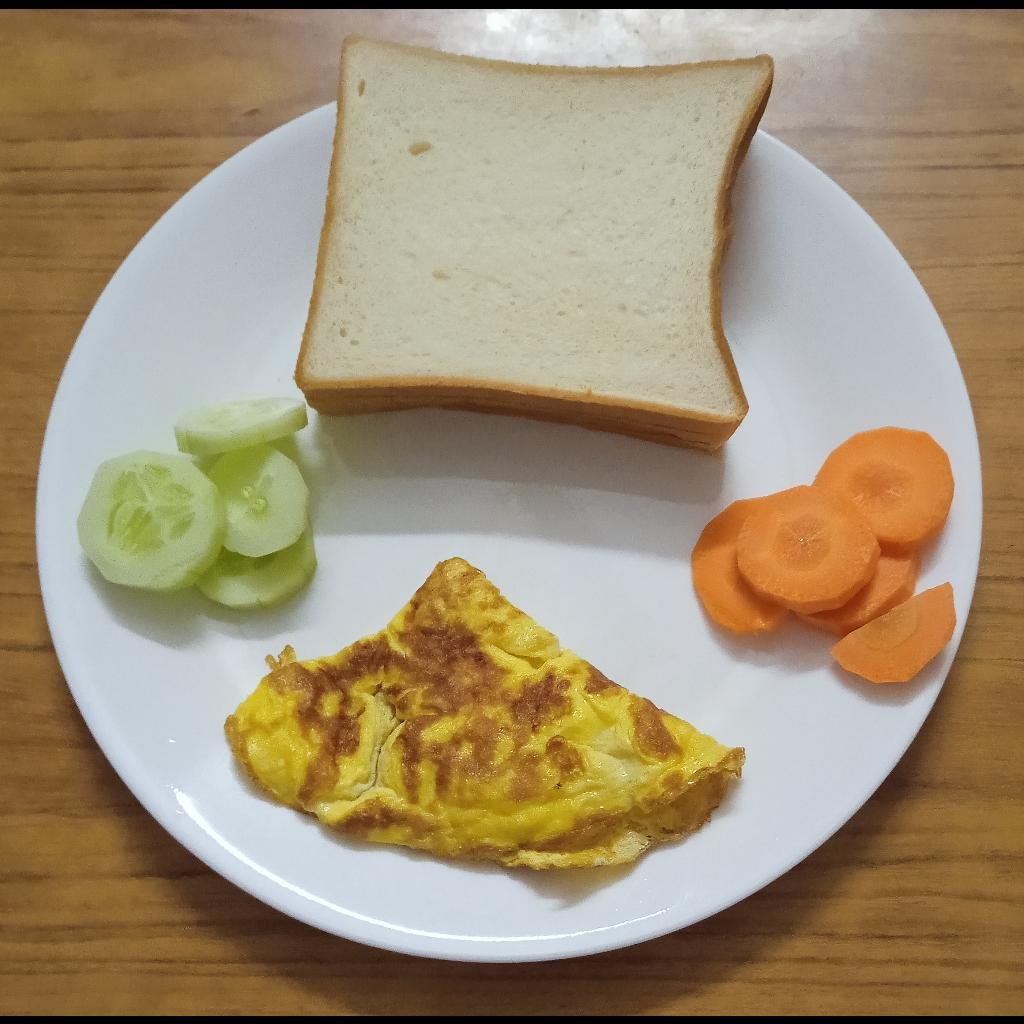bread: (294, 33, 775, 455)
carrot: (690, 425, 957, 683)
cucumber: (76, 397, 318, 611)
egg-poached: (226, 558, 745, 870)
